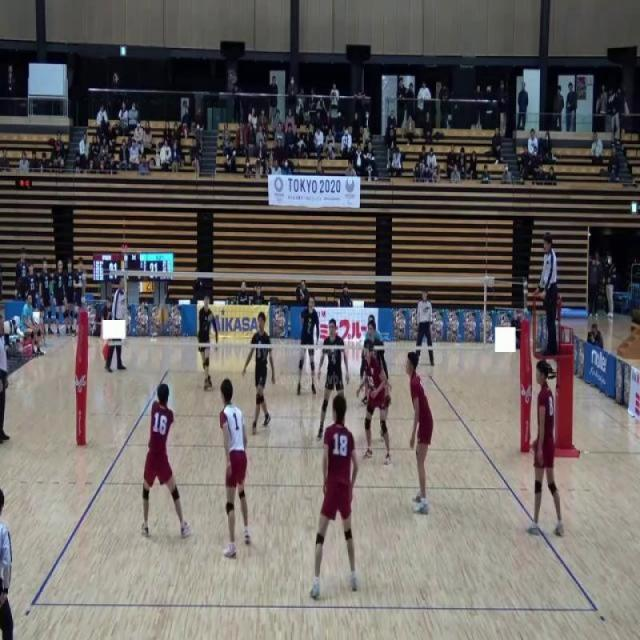volleyball: (160, 304, 169, 325)
